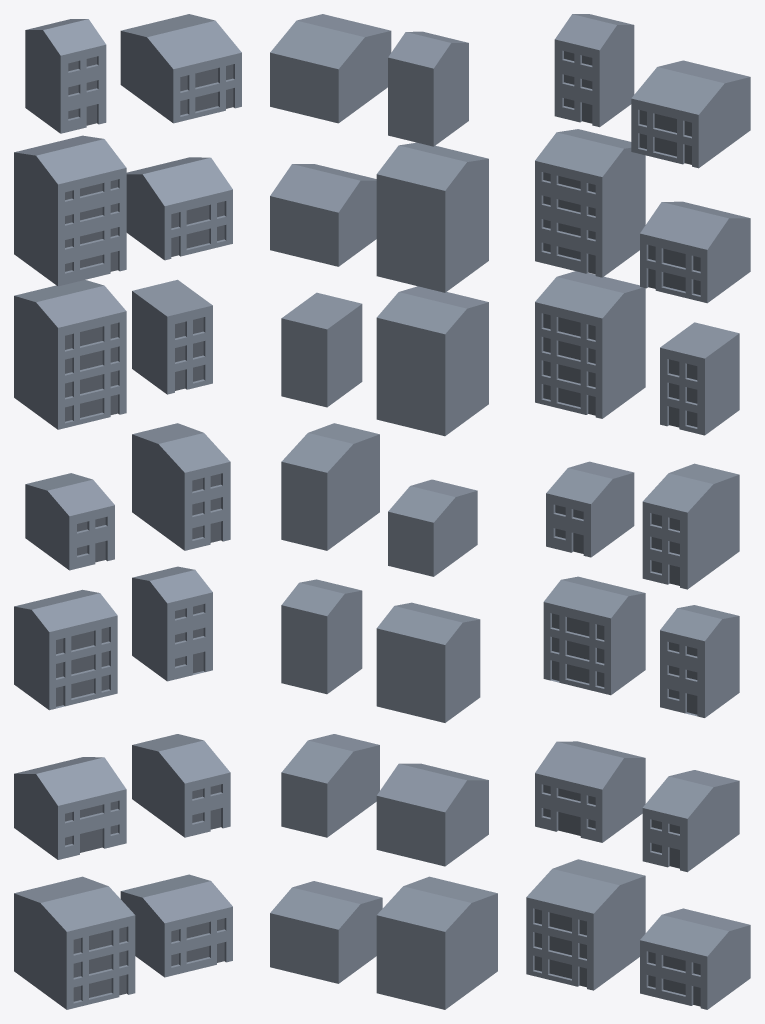
The model's file is mevcut.gltf.
The picture shows the model from 3 angles, left to right: view 1: azimuth 30°, elevation 25°; view 2: azimuth 150°, elevation 25°; view 3: azimuth 330°, elevation 25°; orthographic projection.
Parts seen in each view (by area): view 1: Building_071.013, Building_072.013, Building_076.013, Building_080.013, Building_077.013, Building_074.013, Building_075.013, Building_078.013, Building_083.013, Building_070.013, Building_082.013, Building_081.013 (+11 smaller); view 2: Building_071.013, Building_072.013, Building_076.013, Building_074.013, Building_077.013, Building_080.013, Building_075.013, Building_078.013, Building_083.013, Building_081.013, Building_070.013, Building_082.013 (+2 smaller); view 3: Building_071.013, Building_072.013, Building_076.013, Building_080.013, Building_077.013, Building_074.013, Building_075.013, Building_083.013, Building_078.013, Building_082.013, Building_070.013, Building_081.013 (+11 smaller).
Part boxes in pixels (left/top/right/bottom): Building_071.013: left=14, top=135, right=126, bottom=286; Building_072.013: left=14, top=280, right=126, bottom=429; Building_076.013: left=14, top=876, right=135, bottom=1009; Building_080.013: left=132, top=423, right=230, bottom=550; Building_077.013: left=120, top=14, right=241, bottom=123; Building_074.013: left=14, top=589, right=117, bottom=710; Building_075.013: left=14, top=757, right=126, bottom=859; Building_078.013: left=126, top=157, right=232, bottom=260; Building_083.013: left=120, top=874, right=232, bottom=977; Building_070.013: left=25, top=19, right=106, bottom=133; Building_082.013: left=132, top=734, right=230, bottom=837; Building_081.013: left=132, top=566, right=212, bottom=681; Building_071.013: left=376, top=142, right=488, bottom=292; Building_072.013: left=376, top=286, right=488, bottom=436; Building_076.013: left=376, top=876, right=497, bottom=1009; Building_074.013: left=376, top=602, right=480, bottom=722; Building_077.013: left=270, top=14, right=391, bottom=123; Building_080.013: left=281, top=423, right=379, bottom=550; Building_075.013: left=376, top=763, right=488, bottom=866; Building_078.013: left=270, top=164, right=376, bottom=266; Building_083.013: left=270, top=881, right=382, bottom=983; Building_081.013: left=281, top=579, right=362, bottom=694; Building_070.013: left=388, top=31, right=468, bottom=146; Building_082.013: left=281, top=734, right=379, bottom=837; Building_071.013: left=535, top=129, right=645, bottom=277; Building_072.013: left=535, top=271, right=645, bottom=418; Building_076.013: left=526, top=859, right=645, bottom=990; Building_080.013: left=642, top=463, right=739, bottom=589; Building_077.013: left=631, top=60, right=750, bottom=168; Building_074.013: left=543, top=576, right=645, bottom=695; Building_075.013: left=535, top=741, right=645, bottom=842; Building_083.013: left=640, top=908, right=750, bottom=1009; Building_078.013: left=640, top=201, right=750, bottom=303; Building_082.013: left=642, top=770, right=739, bottom=872; Building_070.013: left=554, top=14, right=634, bottom=127; Building_081.013: left=660, top=605, right=739, bottom=717.
Bounding box in the file's own units: 0.125 × 0.6489 × 0.0652.
